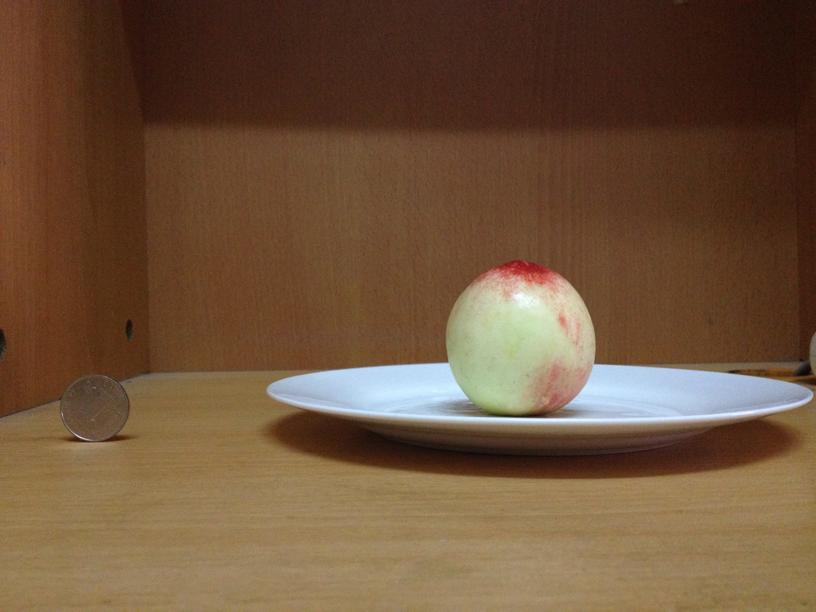coin: (59, 372, 131, 440)
peach: (442, 259, 596, 413)
